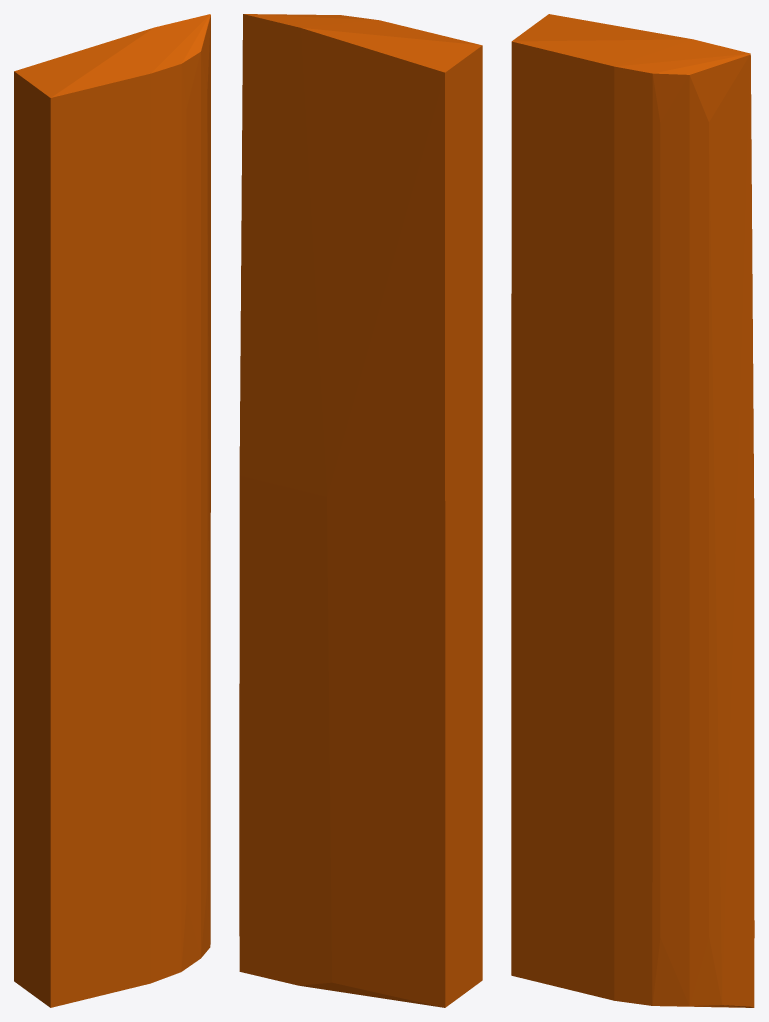
The picture shows the model from 3 angles, left to right: view 1: azimuth 30°, elevation 25°; view 2: azimuth 150°, elevation 25°; view 3: azimuth 330°, elevation 25°; orthographic projection. The views are drawn at different scales.
Size of the model in its own units: 0.9158 by 4.11 by 0.3097.
